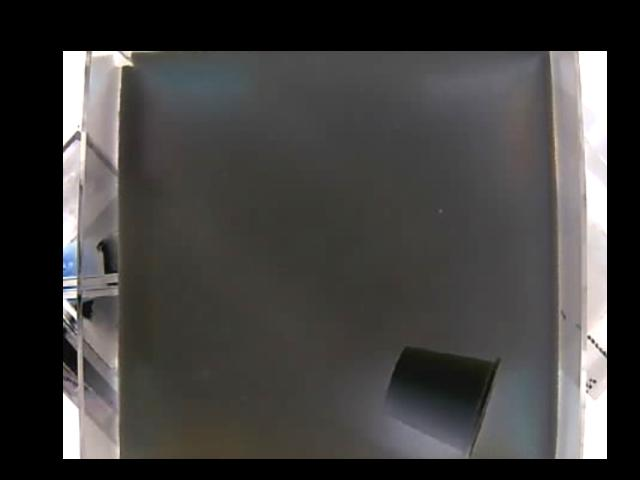Cup: (384, 343, 499, 459)
